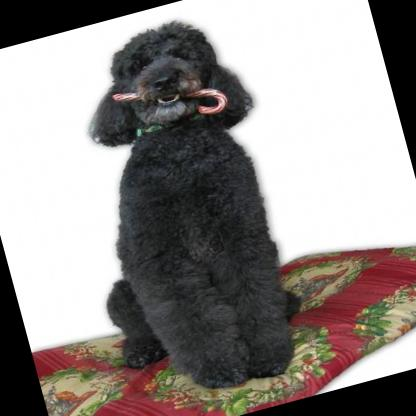standard_poodle: (37, 6, 321, 413)
